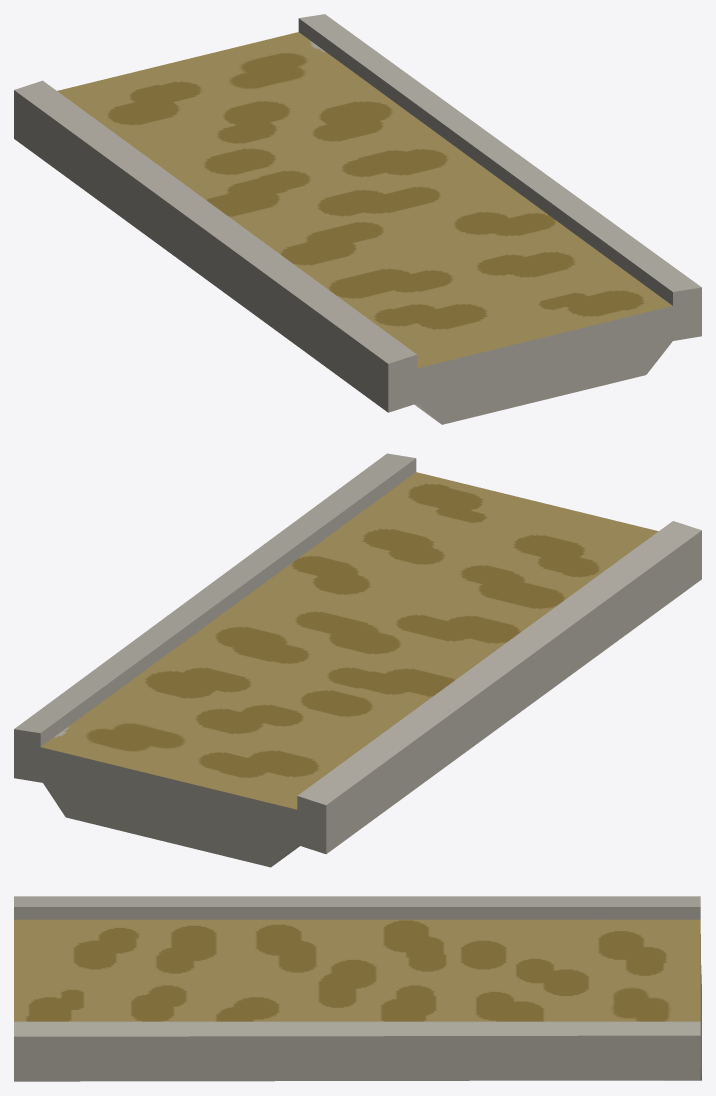
The model's file is orta_kop.fbx.
The picture shows the model from 3 angles, top to bottom: view 1: azimuth 30°, elevation 25°; view 2: azimuth 150°, elevation 25°; view 3: azimuth 270°, elevation 25°; orthographic projection. The views are drawn at different scales.
Visible parts, largest first — view 1: Plane.005; view 2: Plane.005; view 3: Plane.005.
Boxes of the visible parts, <box> form: Plane.005: <box>14,14,701,424</box>; Plane.005: <box>14,453,701,867</box>; Plane.005: <box>14,896,701,1081</box>.
Bounding box in the file's own units: 6.23 × 1.46 × 12.91.
1 material, 1 textured.
